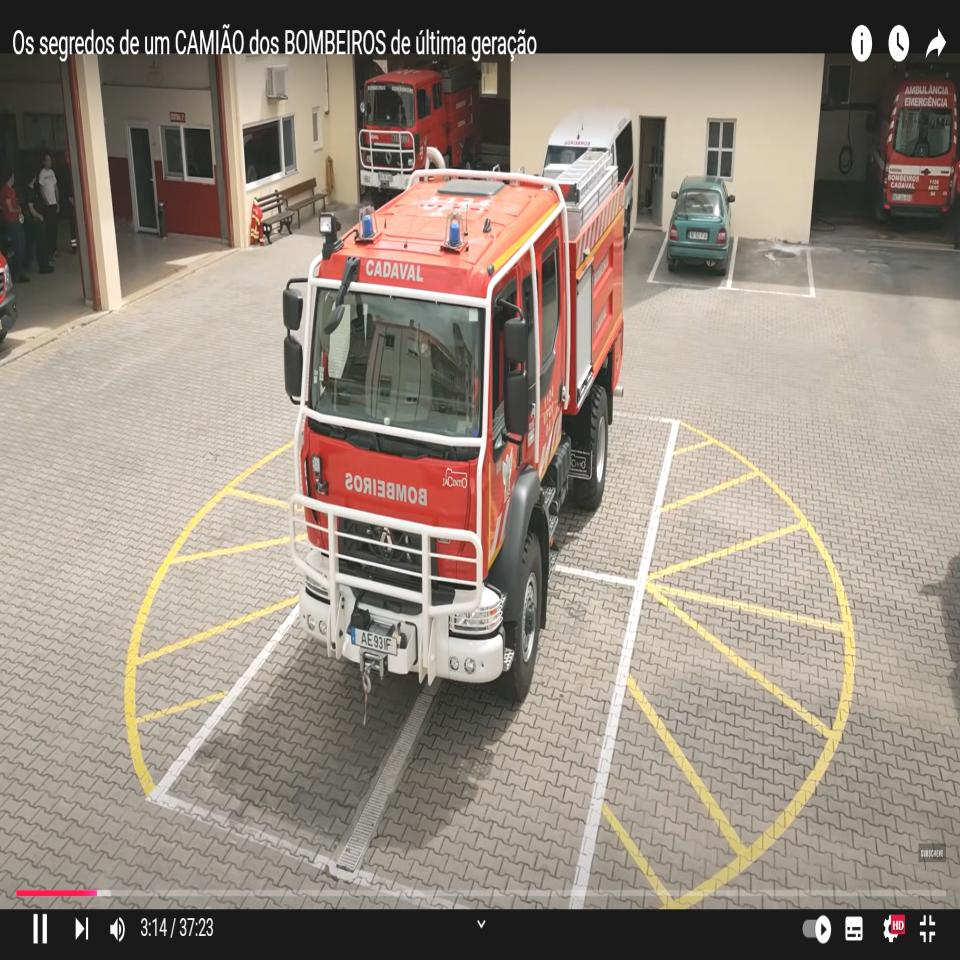bombeiro: (281, 150, 629, 702)
